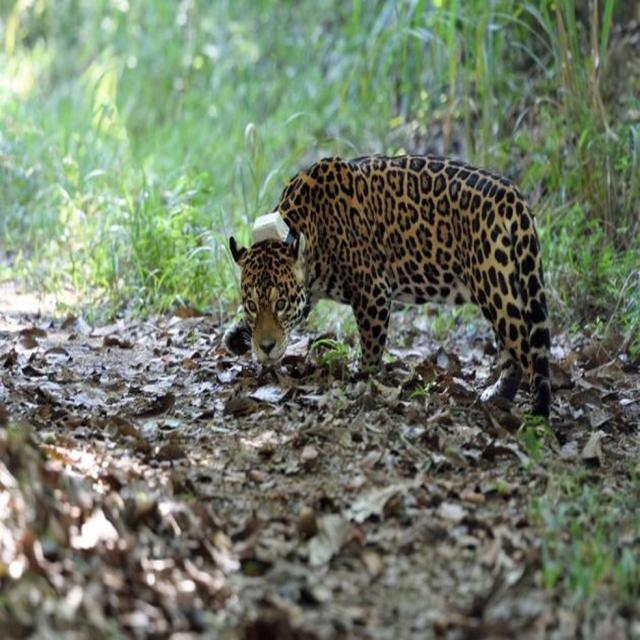Jaguar: (220, 152, 558, 426)
